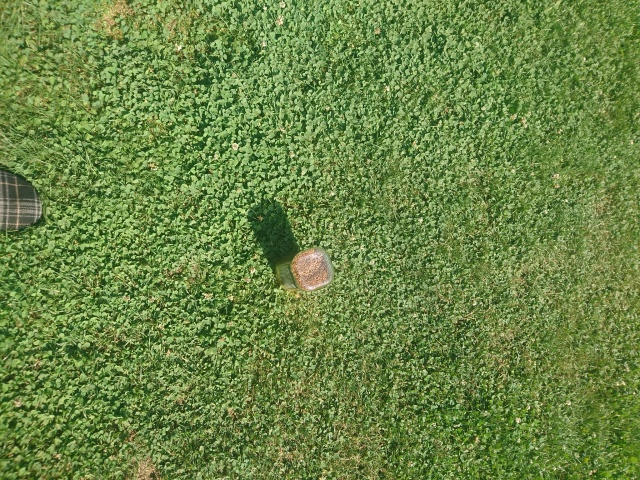Nescafe Gold 225g: (271, 245, 338, 294)
